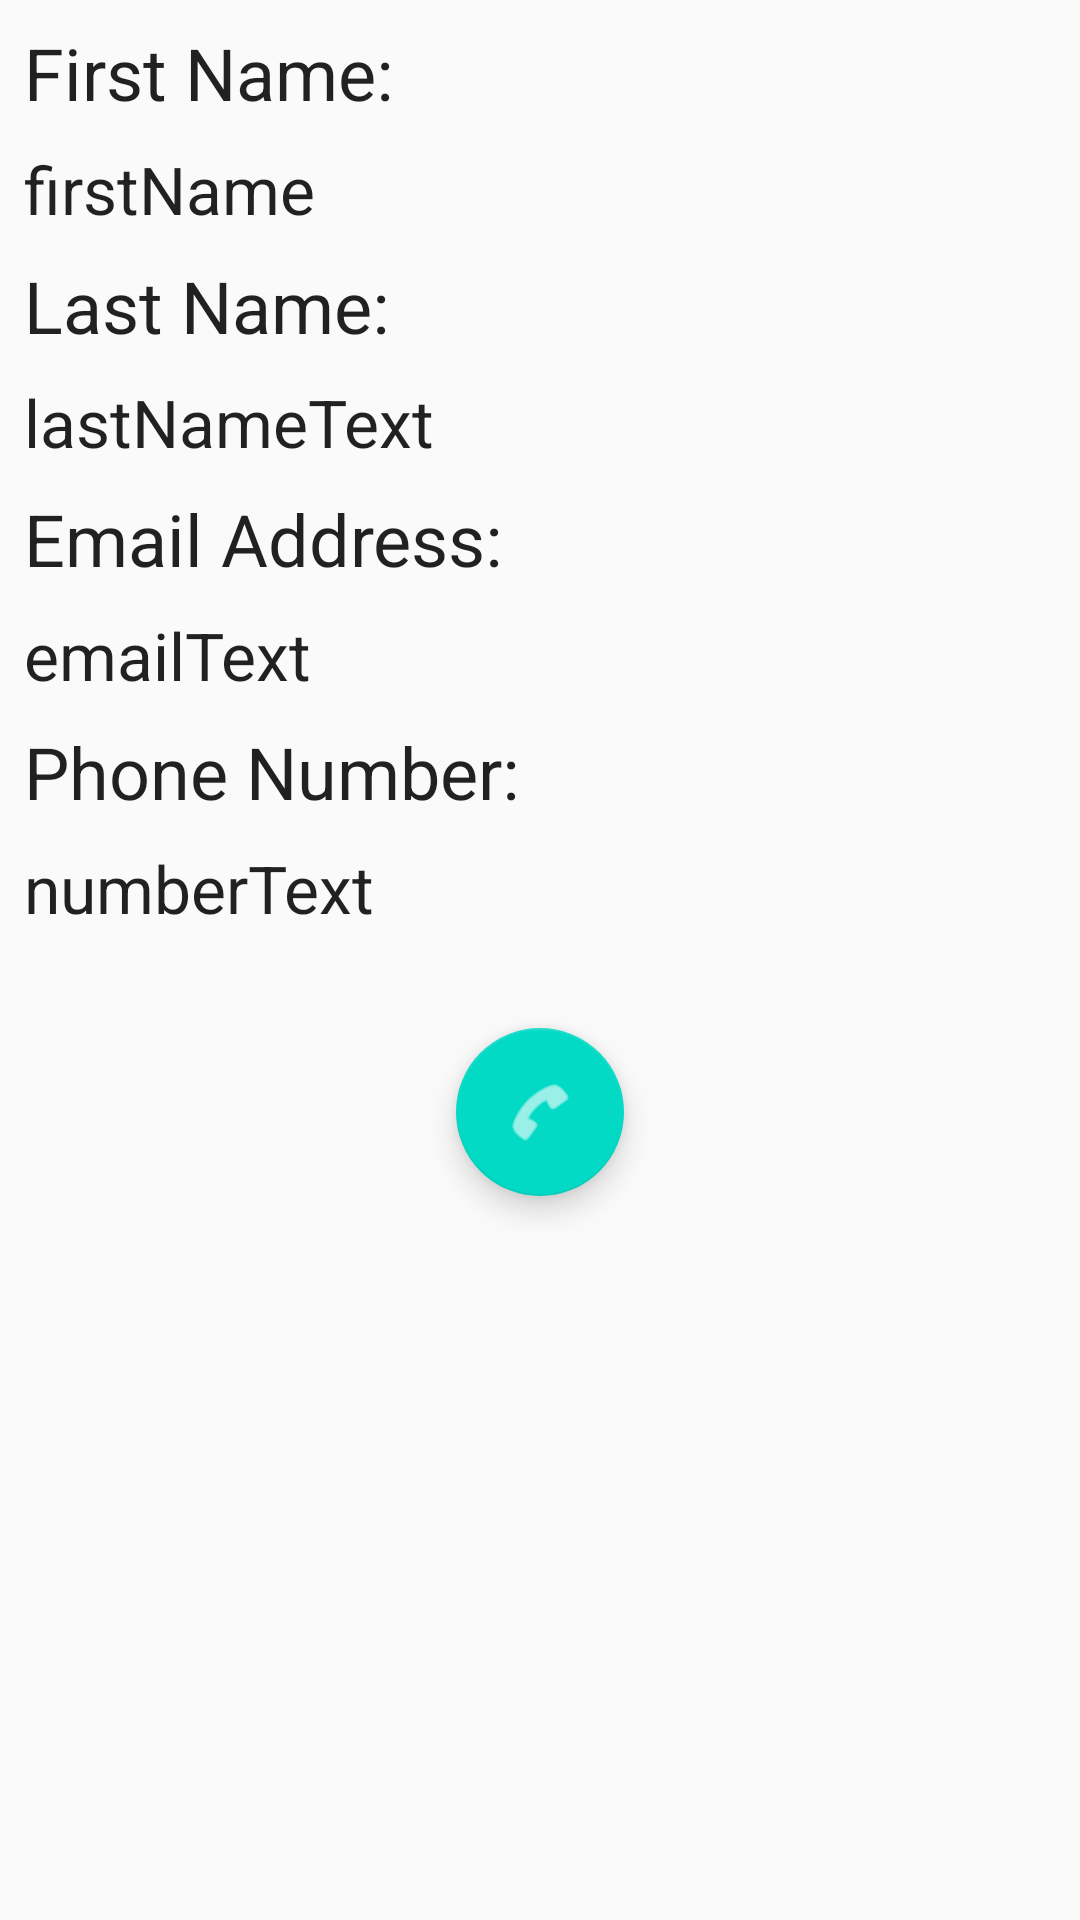

Named icons in this screenshot (1080 × 1920) and their centers, [x,y]:
call: [540,1112]
